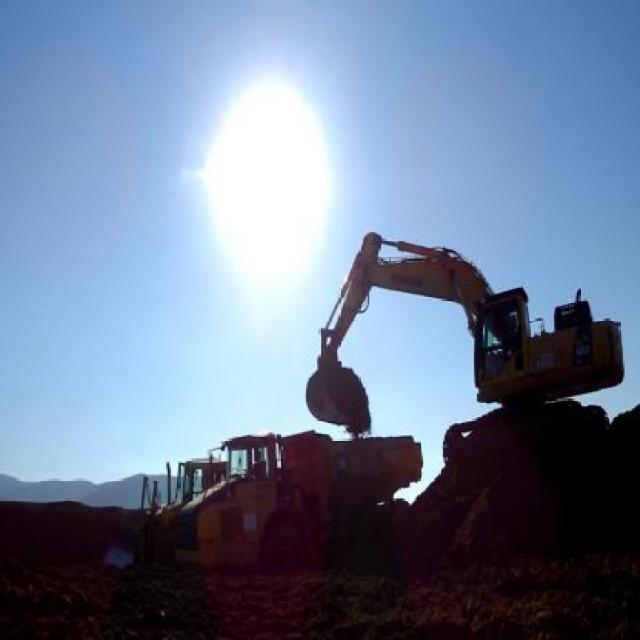Dump Truck: (174, 426, 423, 572)
Excavator: (304, 228, 625, 472)
